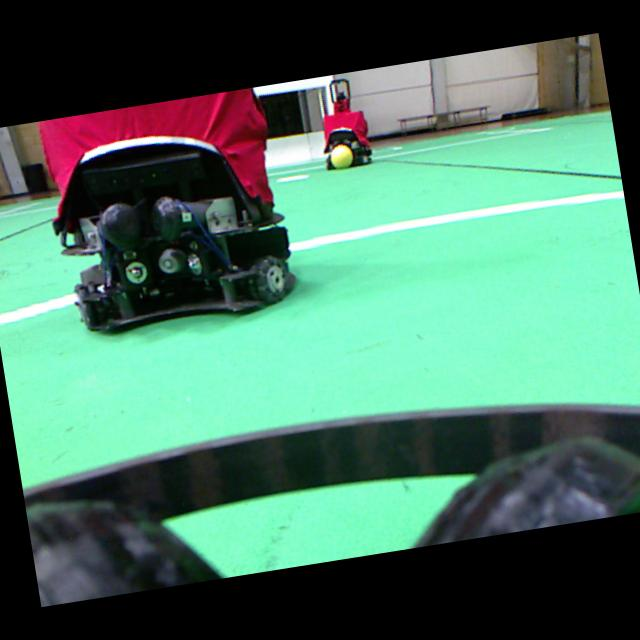ball: (330, 144, 353, 168)
